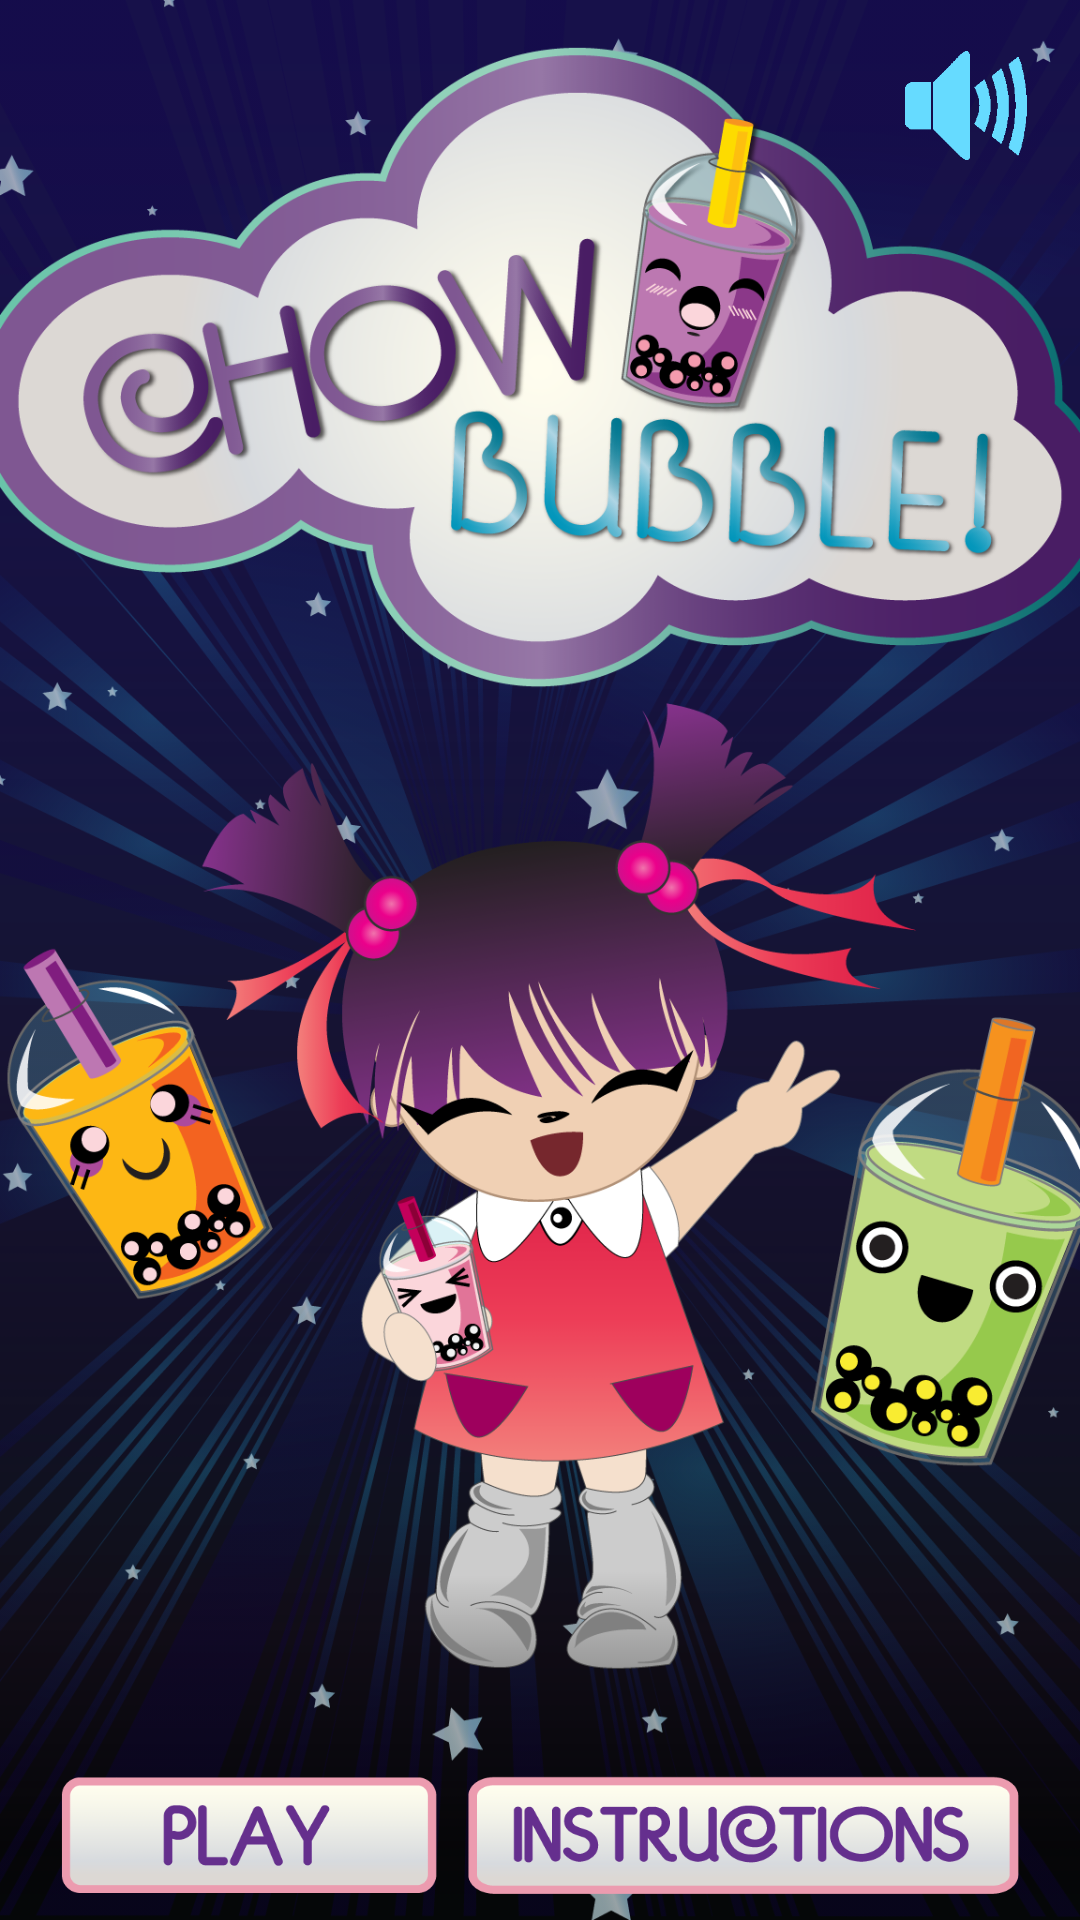

Locate icon controls on the screen. Image size 1080x1920, boxes as box=[x1, y1, x2, y2].
sound on: box=[905, 41, 1055, 160]
